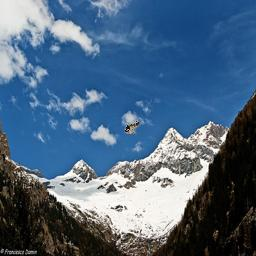Sparrow: (125, 120, 140, 134)
